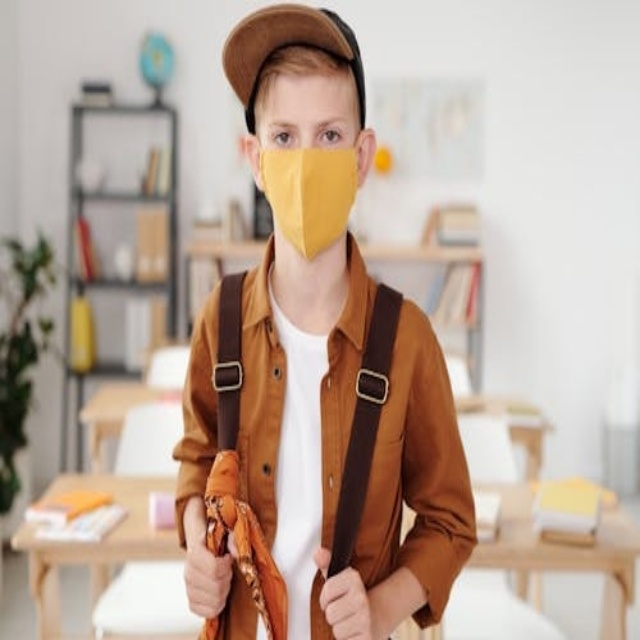Mascara: (259, 146, 359, 261)
Sin_gafas: (261, 104, 352, 150)
Sin_guantes: (182, 496, 234, 621), (315, 546, 373, 640)
